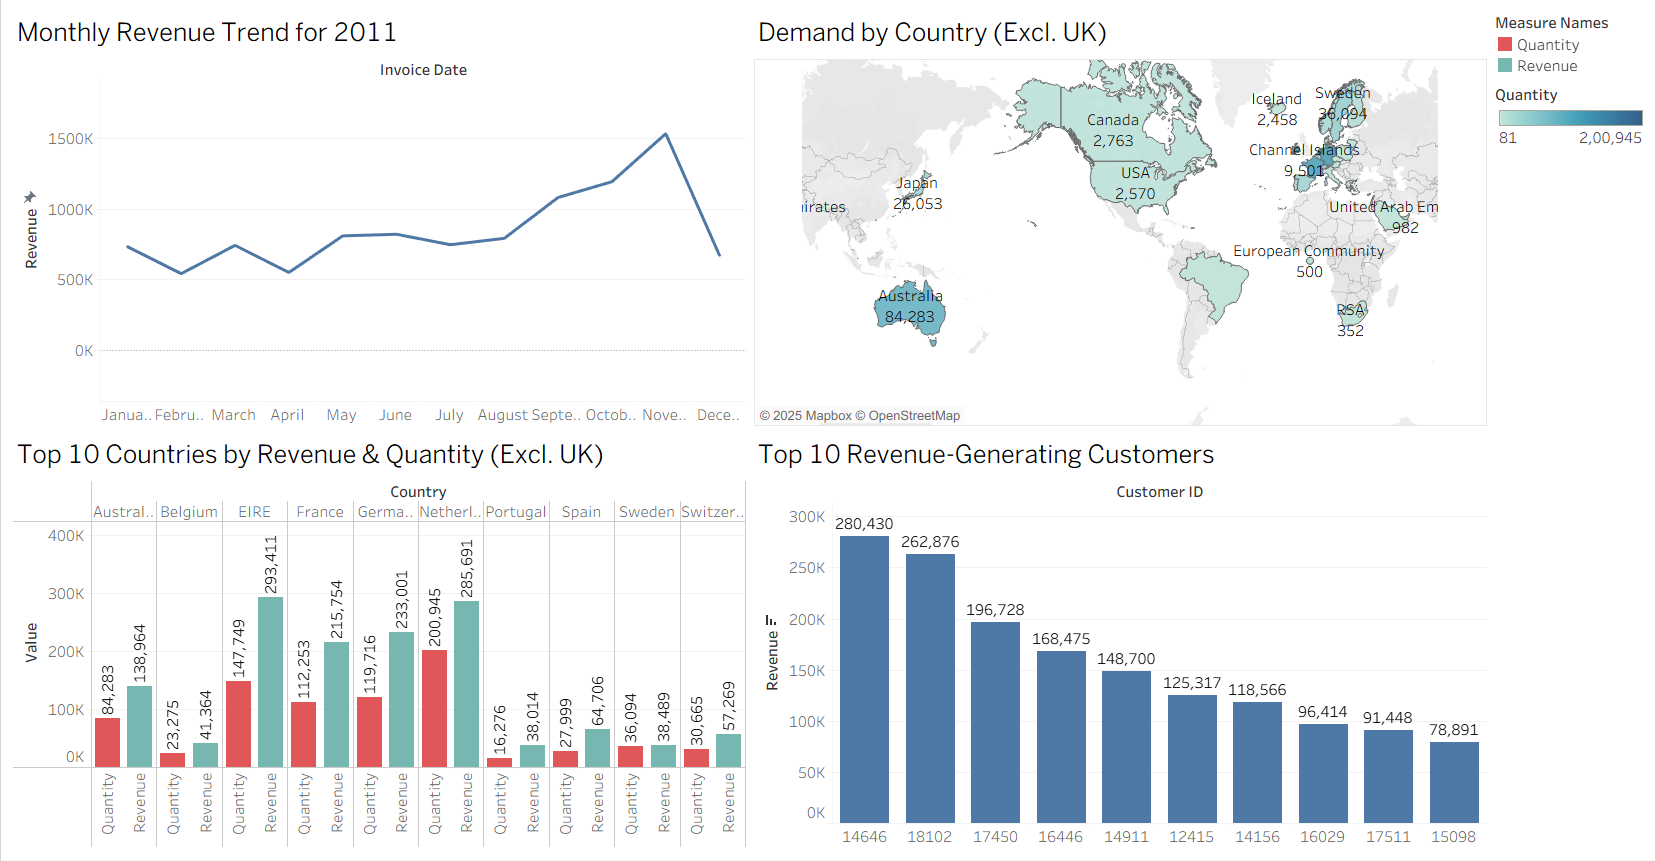

Layout of this report page (visuals, bound fields, positions):
{"tool":"tableau","page":{"name":"Dashboard","canvas":[1000,1000],"units":"permille","ordinal":0},"visuals":[{"type":"worksheet","title":"Revenue Trend","mark":"Line","rows":["Calculation_787848490777186304"],"cols":["InvoiceDate"],"box":[4.7,9.3,448.4,490.7]},{"type":"worksheet","title":"Country Demands","mark":"Automatic","box":[453.1,9.3,448.5,490.7]},{"type":"legend","title":"Countries By Revenue/Quantity","param":"[federated.1oio89v0ndr80u1af6b2412oc638].[:Measure Names]","box":[901.6,9.3,93.7,83.7]},{"type":"legend","title":"Country Demands","param":"[federated.1oio89v0ndr80u1af6b2412oc638].[sum:Quantity:qk]","box":[901.6,93,93.7,84.9]},{"type":"worksheet","title":"Countries By Revenue/Quantity","mark":"Automatic","cols":["Country"],"box":[4.7,500,448.4,490.7]},{"type":"worksheet","title":"Revenue Generating Customers","mark":"Automatic","rows":["Calculation_787848490777186304"],"cols":["CustomerID"],"box":[453.1,500,448.5,490.7]}]}

Visuals, with their boxes on the dashboard's canvas, which has no fixed pixel size, in thousandths of its width and height (x1, y1, x2, y2). These are canvas units, not pixel positions in the 1655x861 screenshot, which may show the page scaled, cropped or inside an application window:
"Revenue Trend" worksheet (Line marks): [5,9,453,500]
"Country Demands" worksheet: [453,9,902,500]
"Countries By Revenue/Quantity" legend: [902,9,995,93]
"Country Demands" legend: [902,93,995,178]
"Countries By Revenue/Quantity" worksheet: [5,500,453,991]
"Revenue Generating Customers" worksheet: [453,500,902,991]
